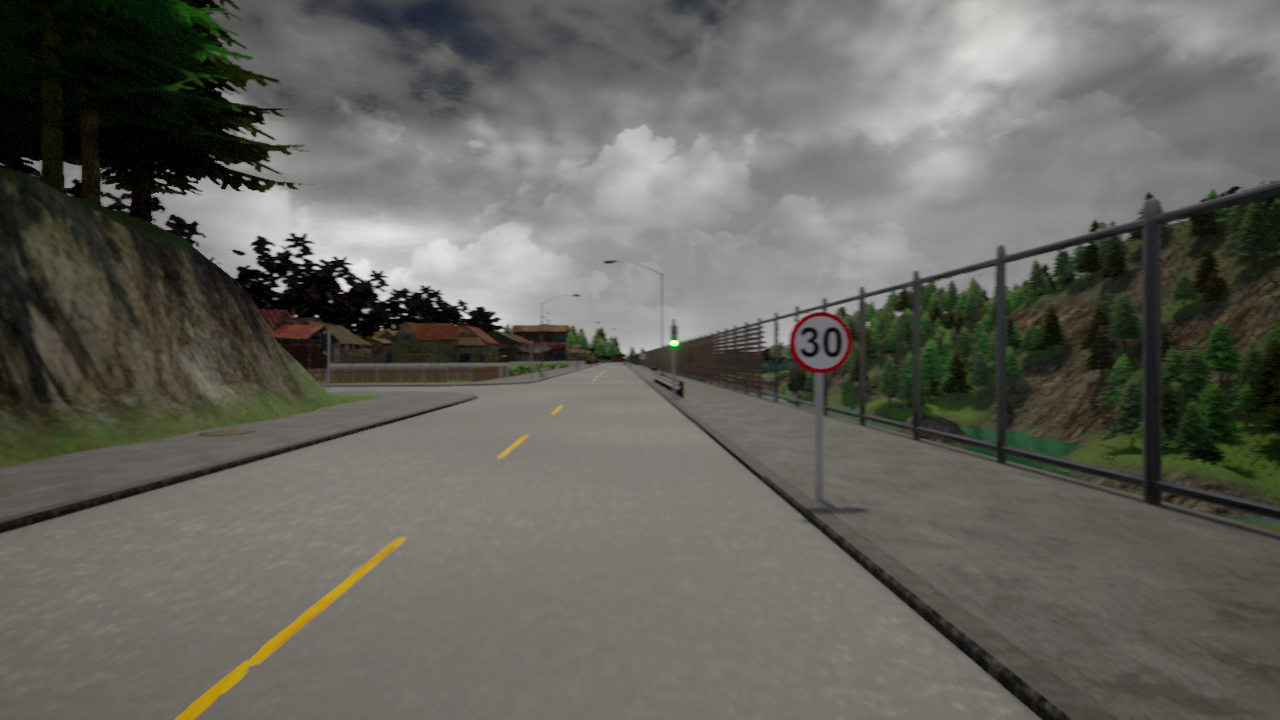green: (670, 324, 680, 347)
